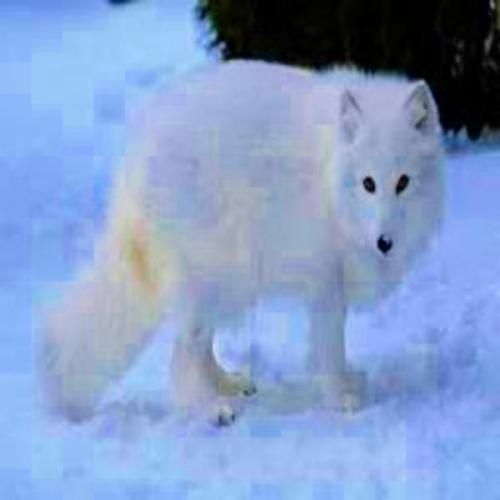arctic_fox-endangered: (56, 65, 446, 404)
